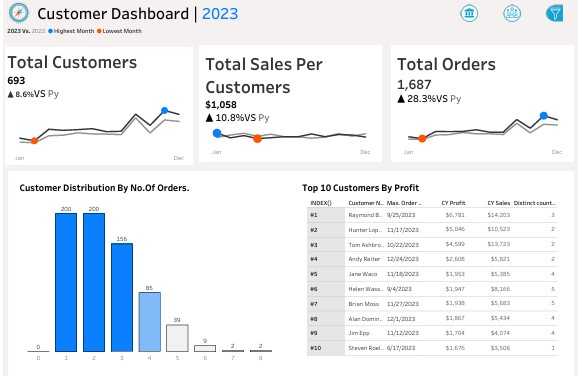

This screenshot's page, from the dashboard's own definition file:
{"tool":"tableau","page":{"name":"Customer Dashboard","canvas":[1200,800],"ordinal":0},"visuals":[{"type":"image","param":"Image/Icon - Logo.png","box":[0,0,64,54]},{"type":"text","box":[64,0,892,54]},{"type":"blank","box":[938,2,256,68]},{"type":"dashboard-object","box":[928,7,89,44]},{"type":"dashboard-object","box":[1017,7,88,44]},{"type":"dashboard-object","box":[1105,7,88,44]},{"type":"worksheet","title":"legend KPIS","mark":"Automatic","box":[0,54,1200,42]},{"type":"text","box":[938,70,256,83]},{"type":"worksheet","title":"Total customers","mark":"Automatic","rows":["Calculation_0483813988868121"],"cols":["Order Date"],"box":[0,96,400,253]},{"type":"worksheet","title":"Total Sales Per customer","mark":"Automatic","rows":["Calculation_0483813998395420"],"cols":["Order Date"],"box":[400,96,400,253]},{"type":"worksheet","title":"Total Orders","mark":"Automatic","rows":["Calculation_0483814001868832"],"cols":["Order Date"],"box":[800,96,400,253]},{"type":"parameter","param":"[Parameters].[Parameter 0271880624435203]","box":[938,153,256,132]},{"type":"text","box":[938,285,256,29]},{"type":"filter","title":"Customer distribution","param":"[federated.0xqg4tu05k95f619wy6ay125t9xu].[none:Category:nk]","box":[938,314,256,52]},{"type":"filter","title":"Customer distribution","param":"[federated.0xqg4tu05k95f619wy6ay125t9xu].[none:Sub-Category:nk]","box":[938,366,256,64]},{"type":"text","box":[27,376,556,32.2]},{"type":"text","box":[617,376,556,31]},{"type":"worksheet","title":"Top customers","mark":"Automatic","rows":["Calculation_0935438461456387","Customer Name","Order Date"],"box":[617,407,556,353]},{"type":"worksheet","title":"Customer distribution","mark":"Bar","rows":["Calculation_0483813977505799"],"cols":["Calculation_0935438453813248"],"box":[27,408.2,556,364.8]},{"type":"blank","box":[938,430,256,44]},{"type":"text","box":[938,474,256,29]},{"type":"filter","title":"Customer distribution","param":"[federated.0xqg4tu05k95f619wy6ay125t9xu].[none:Region:nk]","box":[938,503,256,52]},{"type":"filter","title":"Customer distribution","param":"[federated.0xqg4tu05k95f619wy6ay125t9xu].[none:State:nk]","box":[938,555,256,52]},{"type":"filter","title":"Customer distribution","param":"[federated.0xqg4tu05k95f619wy6ay125t9xu].[none:City:nk]","box":[938,607,256,52]}]}

Visuals, with their boxes in screenshot pixels (x1, y1, x2, y2), scaled from the page's 1200x800 canvas onto the 578x376 screenshot:
image: rect(0, 0, 31, 25)
text: rect(31, 0, 460, 25)
blank: rect(452, 1, 575, 33)
dashboard-object: rect(447, 3, 490, 24)
dashboard-object: rect(490, 3, 532, 24)
dashboard-object: rect(532, 3, 575, 24)
"legend KPIS" worksheet: rect(0, 25, 577, 45)
text: rect(452, 33, 575, 72)
"Total customers" worksheet: rect(0, 45, 193, 164)
"Total Sales Per customer" worksheet: rect(193, 45, 385, 164)
"Total Orders" worksheet: rect(385, 45, 577, 164)
parameter: rect(452, 72, 575, 134)
text: rect(452, 134, 575, 148)
"Customer distribution" filter: rect(452, 148, 575, 172)
"Customer distribution" filter: rect(452, 172, 575, 202)
text: rect(13, 177, 281, 192)
text: rect(297, 177, 565, 191)
"Top customers" worksheet: rect(297, 191, 565, 357)
"Customer distribution" worksheet (Bar marks): rect(13, 192, 281, 363)
blank: rect(452, 202, 575, 223)
text: rect(452, 223, 575, 236)
"Customer distribution" filter: rect(452, 236, 575, 261)
"Customer distribution" filter: rect(452, 261, 575, 285)
"Customer distribution" filter: rect(452, 285, 575, 310)
